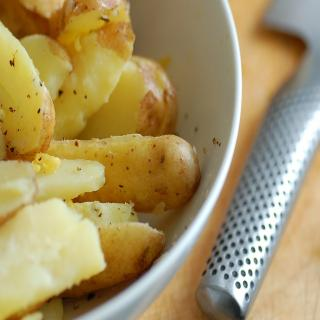Potato: (0, 0, 201, 320), (2, 26, 48, 164)
